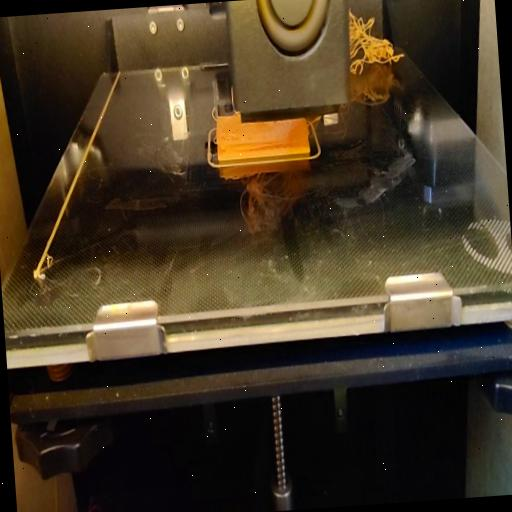spaghetti: (347, 8, 409, 79)
